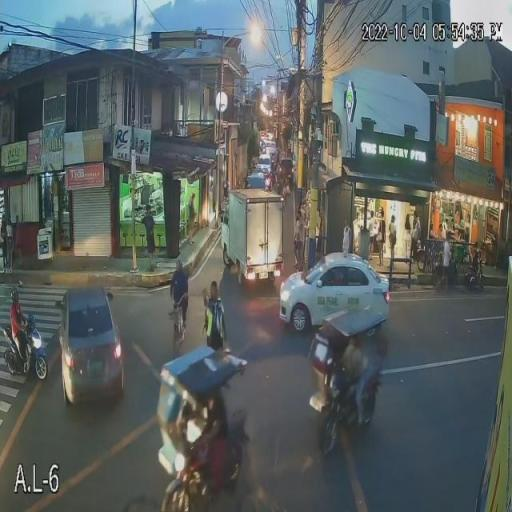helmet: (11, 288, 22, 300)
motorcycle: (156, 346, 248, 512), (309, 312, 388, 457), (0, 312, 48, 380)
rider: (186, 385, 240, 492), (338, 345, 382, 420), (10, 288, 32, 358), (169, 262, 191, 322)
